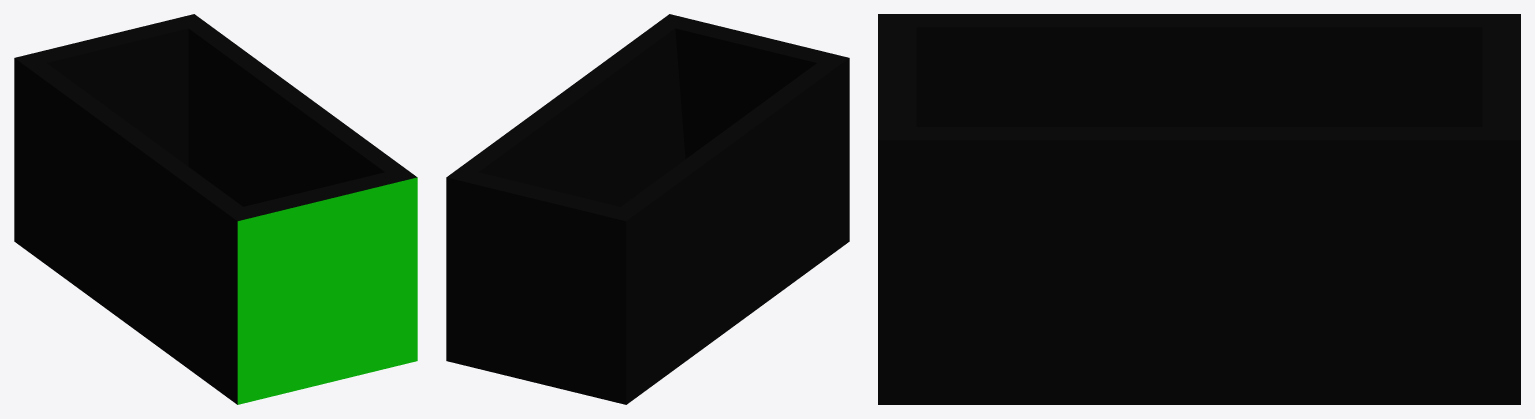
Rendered from single_drawer_no_handle_green.fbx.
3 views of the same model, side by side, from view 1: azimuth 30°, elevation 25°; view 2: azimuth 150°, elevation 25°; view 3: azimuth 270°, elevation 25° (orthographic). The views are drawn at different scales.
Parts seen in each view (by area): view 1: pCube4; view 2: pCube4; view 3: pCube4.
Boxes of the visible parts, left/top/right/bottom form: pCube4: left=14, top=14, right=417, bottom=404; pCube4: left=446, top=14, right=849, bottom=404; pCube4: left=878, top=14, right=1520, bottom=404.
Bounding box in the file's own units: 1.85 × 1.8 × 3.97.
